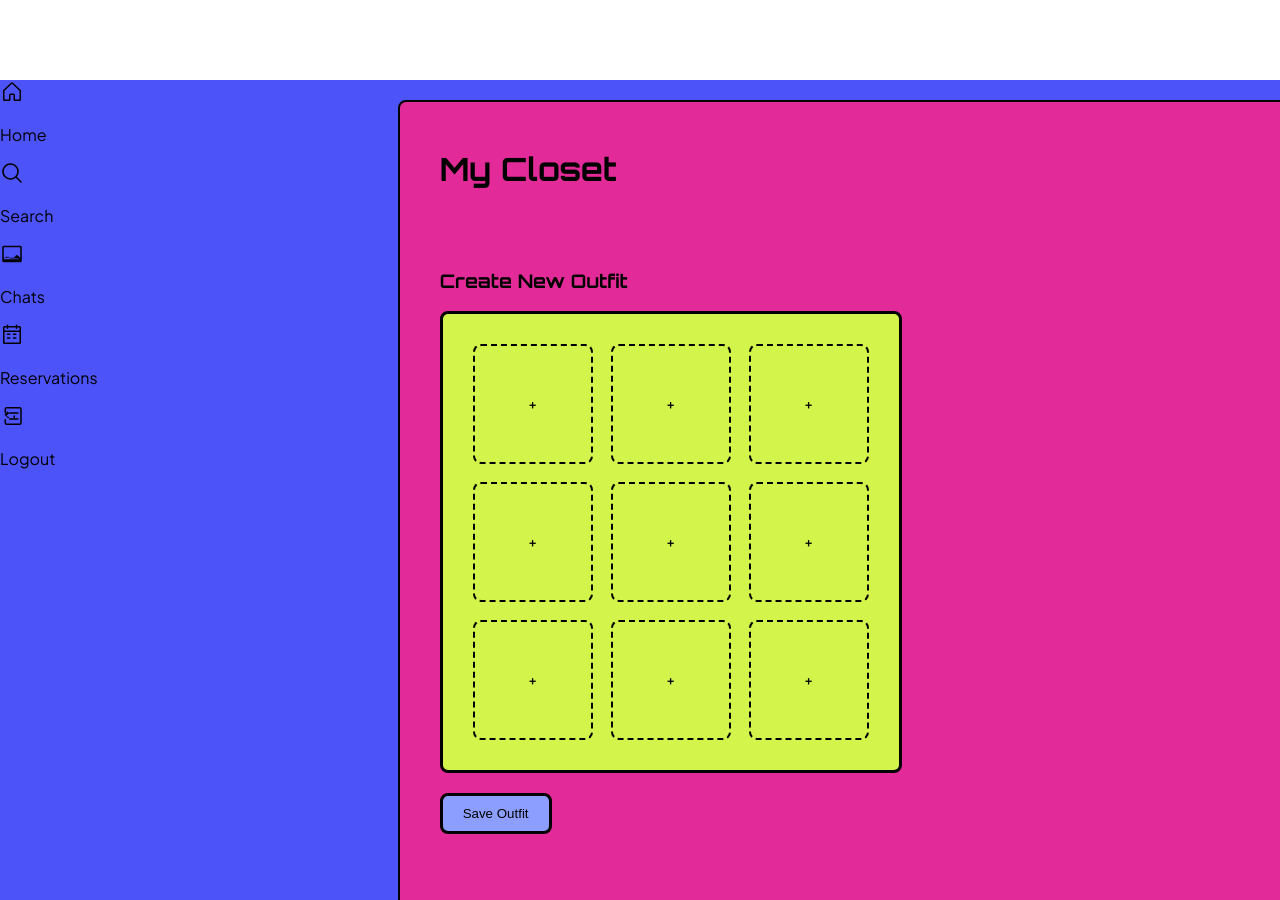
it: MyCloset Component › Create New Outfit Section › opens popup when slot is clicked
The width and height of the screenshot is (1280, 900).
Step 1. Click the 1st text "+" → (533, 404), box [529, 394, 536, 414]
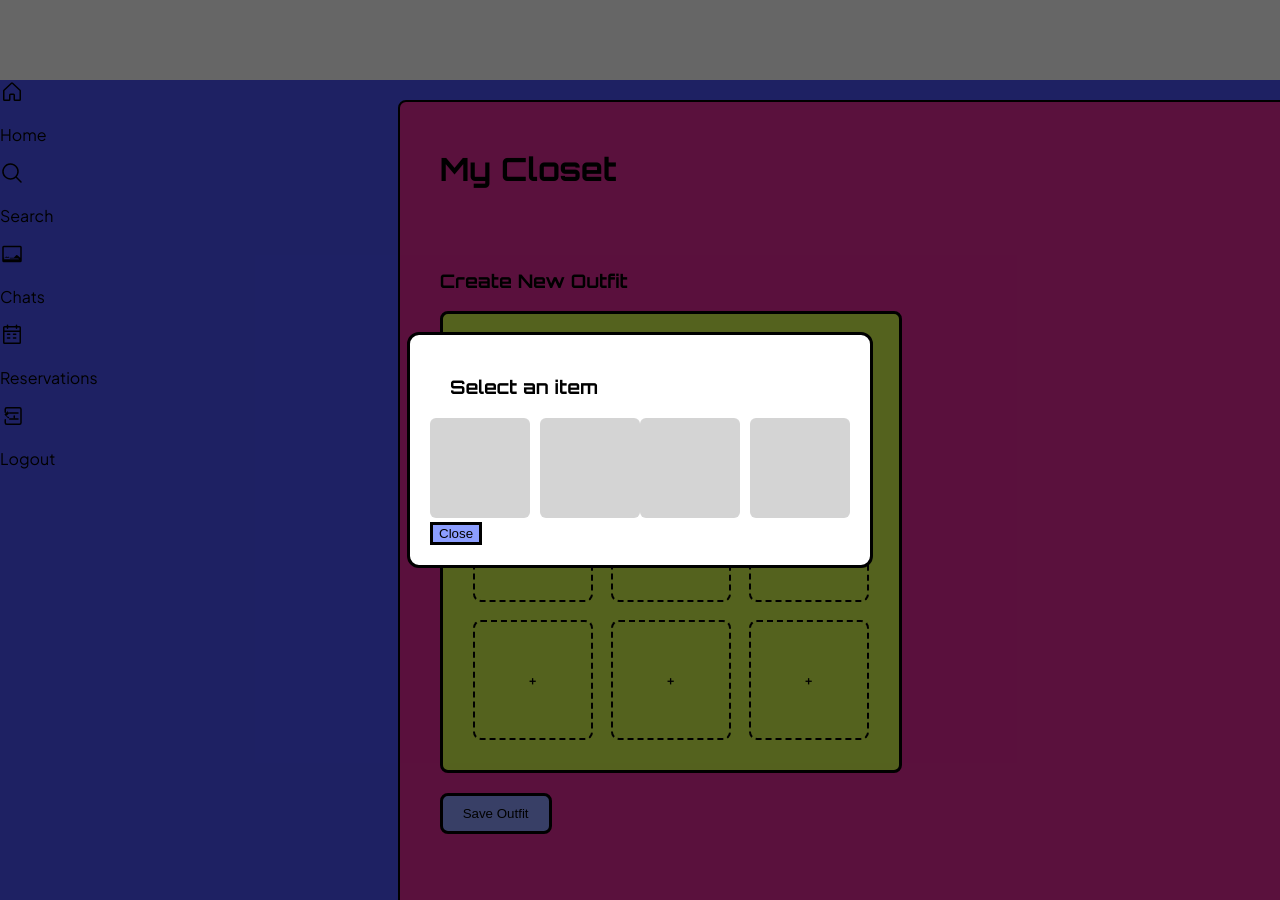
Check: the heading "Select an item" is shown, box [450, 375, 598, 399]
